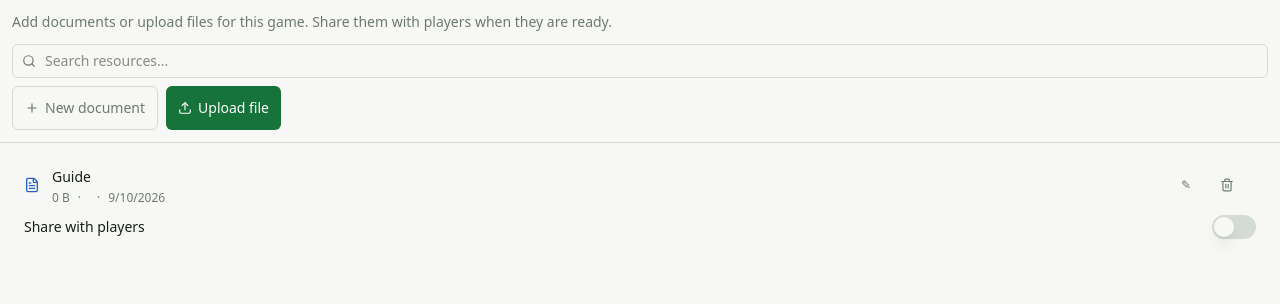
Test: keeps sharing off when the server refuses the change
Click the switch named "Share with players". click: [1234, 227]
box: [1212, 215, 1256, 239]
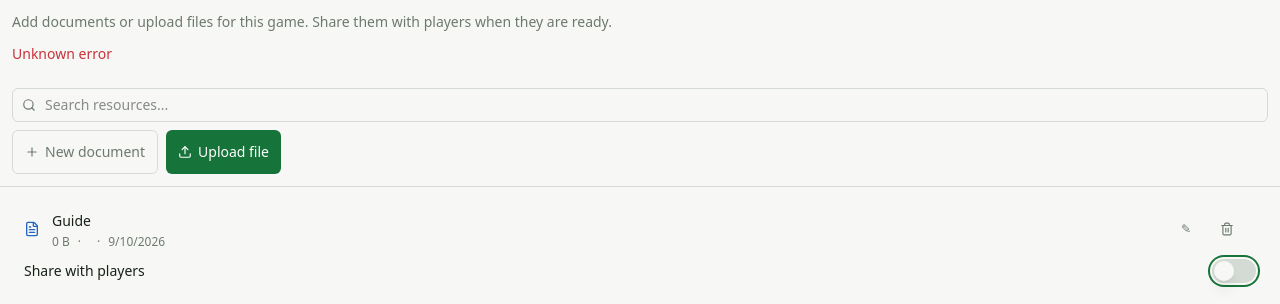
Expected: the switch named "Share with players" is enabled, [1212, 259, 1256, 283]
Now the message "Unknown error" is shown, box [12, 44, 112, 63]
